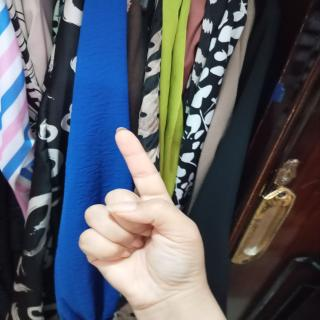BAA: (69, 122, 236, 312)
